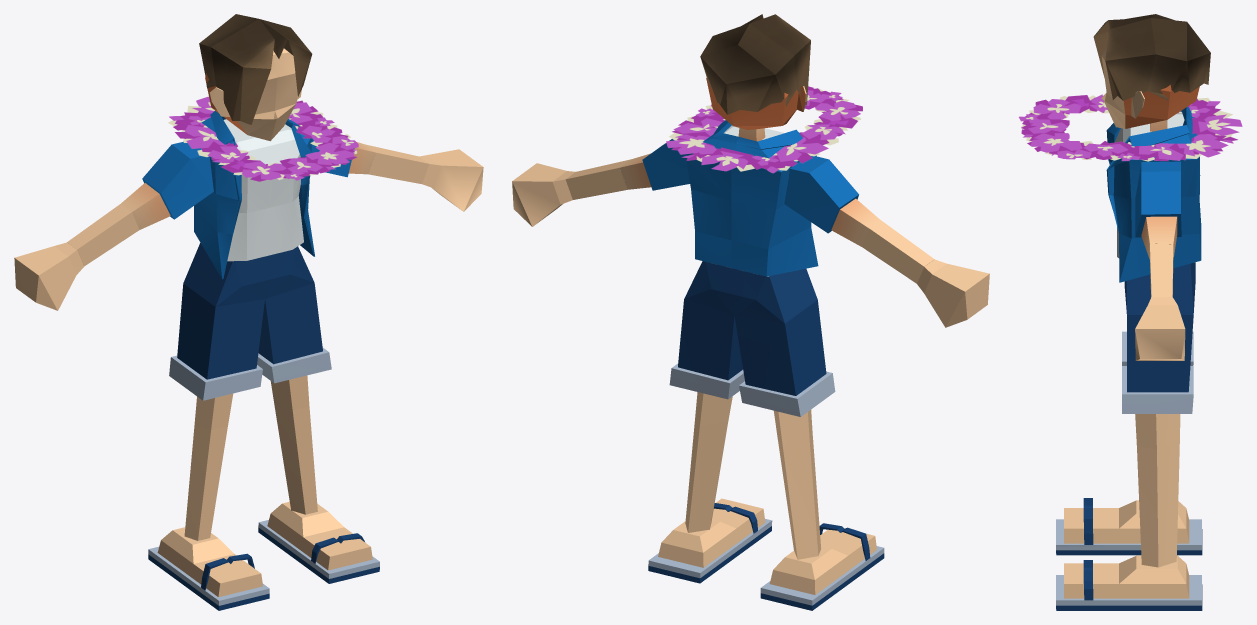
File: Leon.glb
3 views of the same model, side by side, from view 1: azimuth 30°, elevation 25°; view 2: azimuth 150°, elevation 25°; view 3: azimuth 270°, elevation 25° (orthographic). The views are drawn at different scales.
Parts seen in each view (by area): view 1: Right_Legging, Hair.002, Cloth_Body, Flower_Garment, Left_Legging, Cloth_Body.001, Right_Foot, Left_Foot, Cloth_Right_Arm, Lower_Right_Leg, Head, Lower_Left_Leg (+12 smaller); view 2: Cloth_Body.001, Hair.002, Right_Legging, Flower_Garment, Left_Legging, Lower_Right_Leg, Right_Foot, Cloth_Right_Arm, Left_Foot, Right_Hand, Lower_Left_Leg, Lower_Right_Pant (+13 smaller); view 3: Hair.002, Flower_Garment, Cloth_Body.001, Lower_Left_Leg, Left_Legging, Left_Foot, Right_Foot, Left_Hand, Left__Flipflop, Cloth_Left_Arm, Head, Right__Flipflop (+5 smaller).
Part boxes in pixels (x1,y1,x2,y2): Right_Legging: [169, 283, 264, 400]; Hair.002: [199, 14, 312, 124]; Cloth_Body: [223, 119, 303, 261]; Flower_Garment: [168, 96, 358, 181]; Left_Legging: [257, 283, 331, 383]; Cloth_Body.001: [185, 110, 314, 279]; Right_Foot: [157, 527, 262, 597]; Left_Foot: [267, 501, 372, 570]; Cloth_Right_Arm: [142, 141, 213, 219]; Lower_Right_Leg: [184, 425, 227, 540]; Head: [205, 48, 301, 141]; Lower_Left_Leg: [274, 405, 317, 514]; Cloth_Body.001: [685, 120, 818, 276]; Hair.002: [700, 14, 810, 114]; Right_Legging: [734, 300, 835, 416]; Flower_Garment: [666, 86, 862, 173]; Left_Legging: [669, 299, 744, 399]; Lower_Right_Leg: [777, 433, 821, 559]; Right_Foot: [769, 528, 876, 594]; Cloth_Right_Arm: [784, 156, 858, 233]; Left_Foot: [658, 498, 765, 567]; Right_Hand: [917, 259, 989, 327]; Lower_Left_Leg: [685, 414, 727, 532]; Lower_Right_Pant: [735, 268, 817, 323]; Hair.002: [1093, 14, 1210, 100]; Flower_Garment: [1018, 94, 1242, 161]; Cloth_Body.001: [1106, 106, 1201, 282]; Lower_Left_Leg: [1137, 442, 1179, 567]; Left_Legging: [1122, 315, 1193, 413]; Left_Foot: [1064, 555, 1189, 598]; Right_Foot: [1064, 500, 1189, 543]; Left_Hand: [1135, 297, 1185, 360]; Left__Flipflop: [1056, 560, 1202, 610]; Cloth_Left_Arm: [1135, 161, 1181, 237]; Head: [1101, 47, 1199, 128]; Right__Flipflop: [1056, 498, 1202, 555].
Size of the model in its own units: 1.56 by 1.8 by 0.6614.
Materials: 8 (8 with a texture image).
